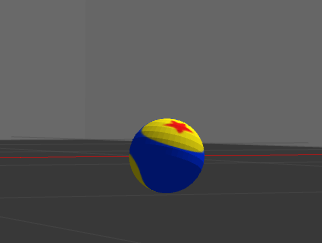toy story ball: (128, 118, 205, 193)
